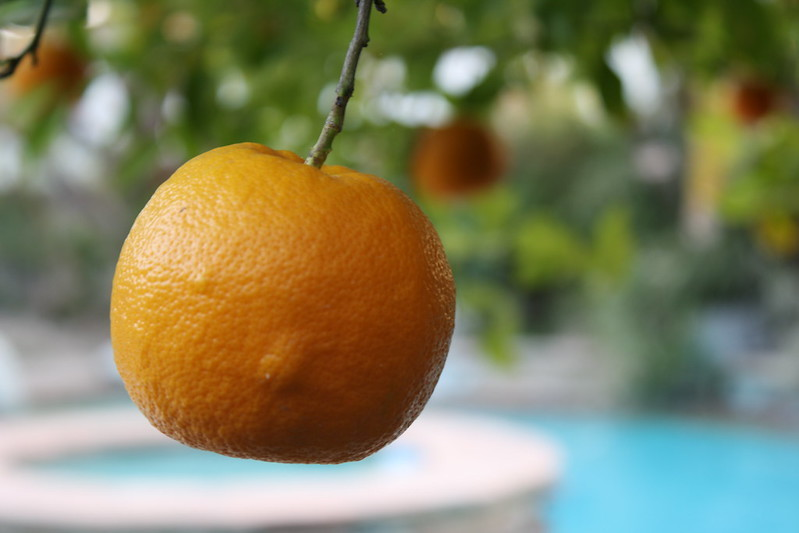orange: (111, 139, 464, 471)
